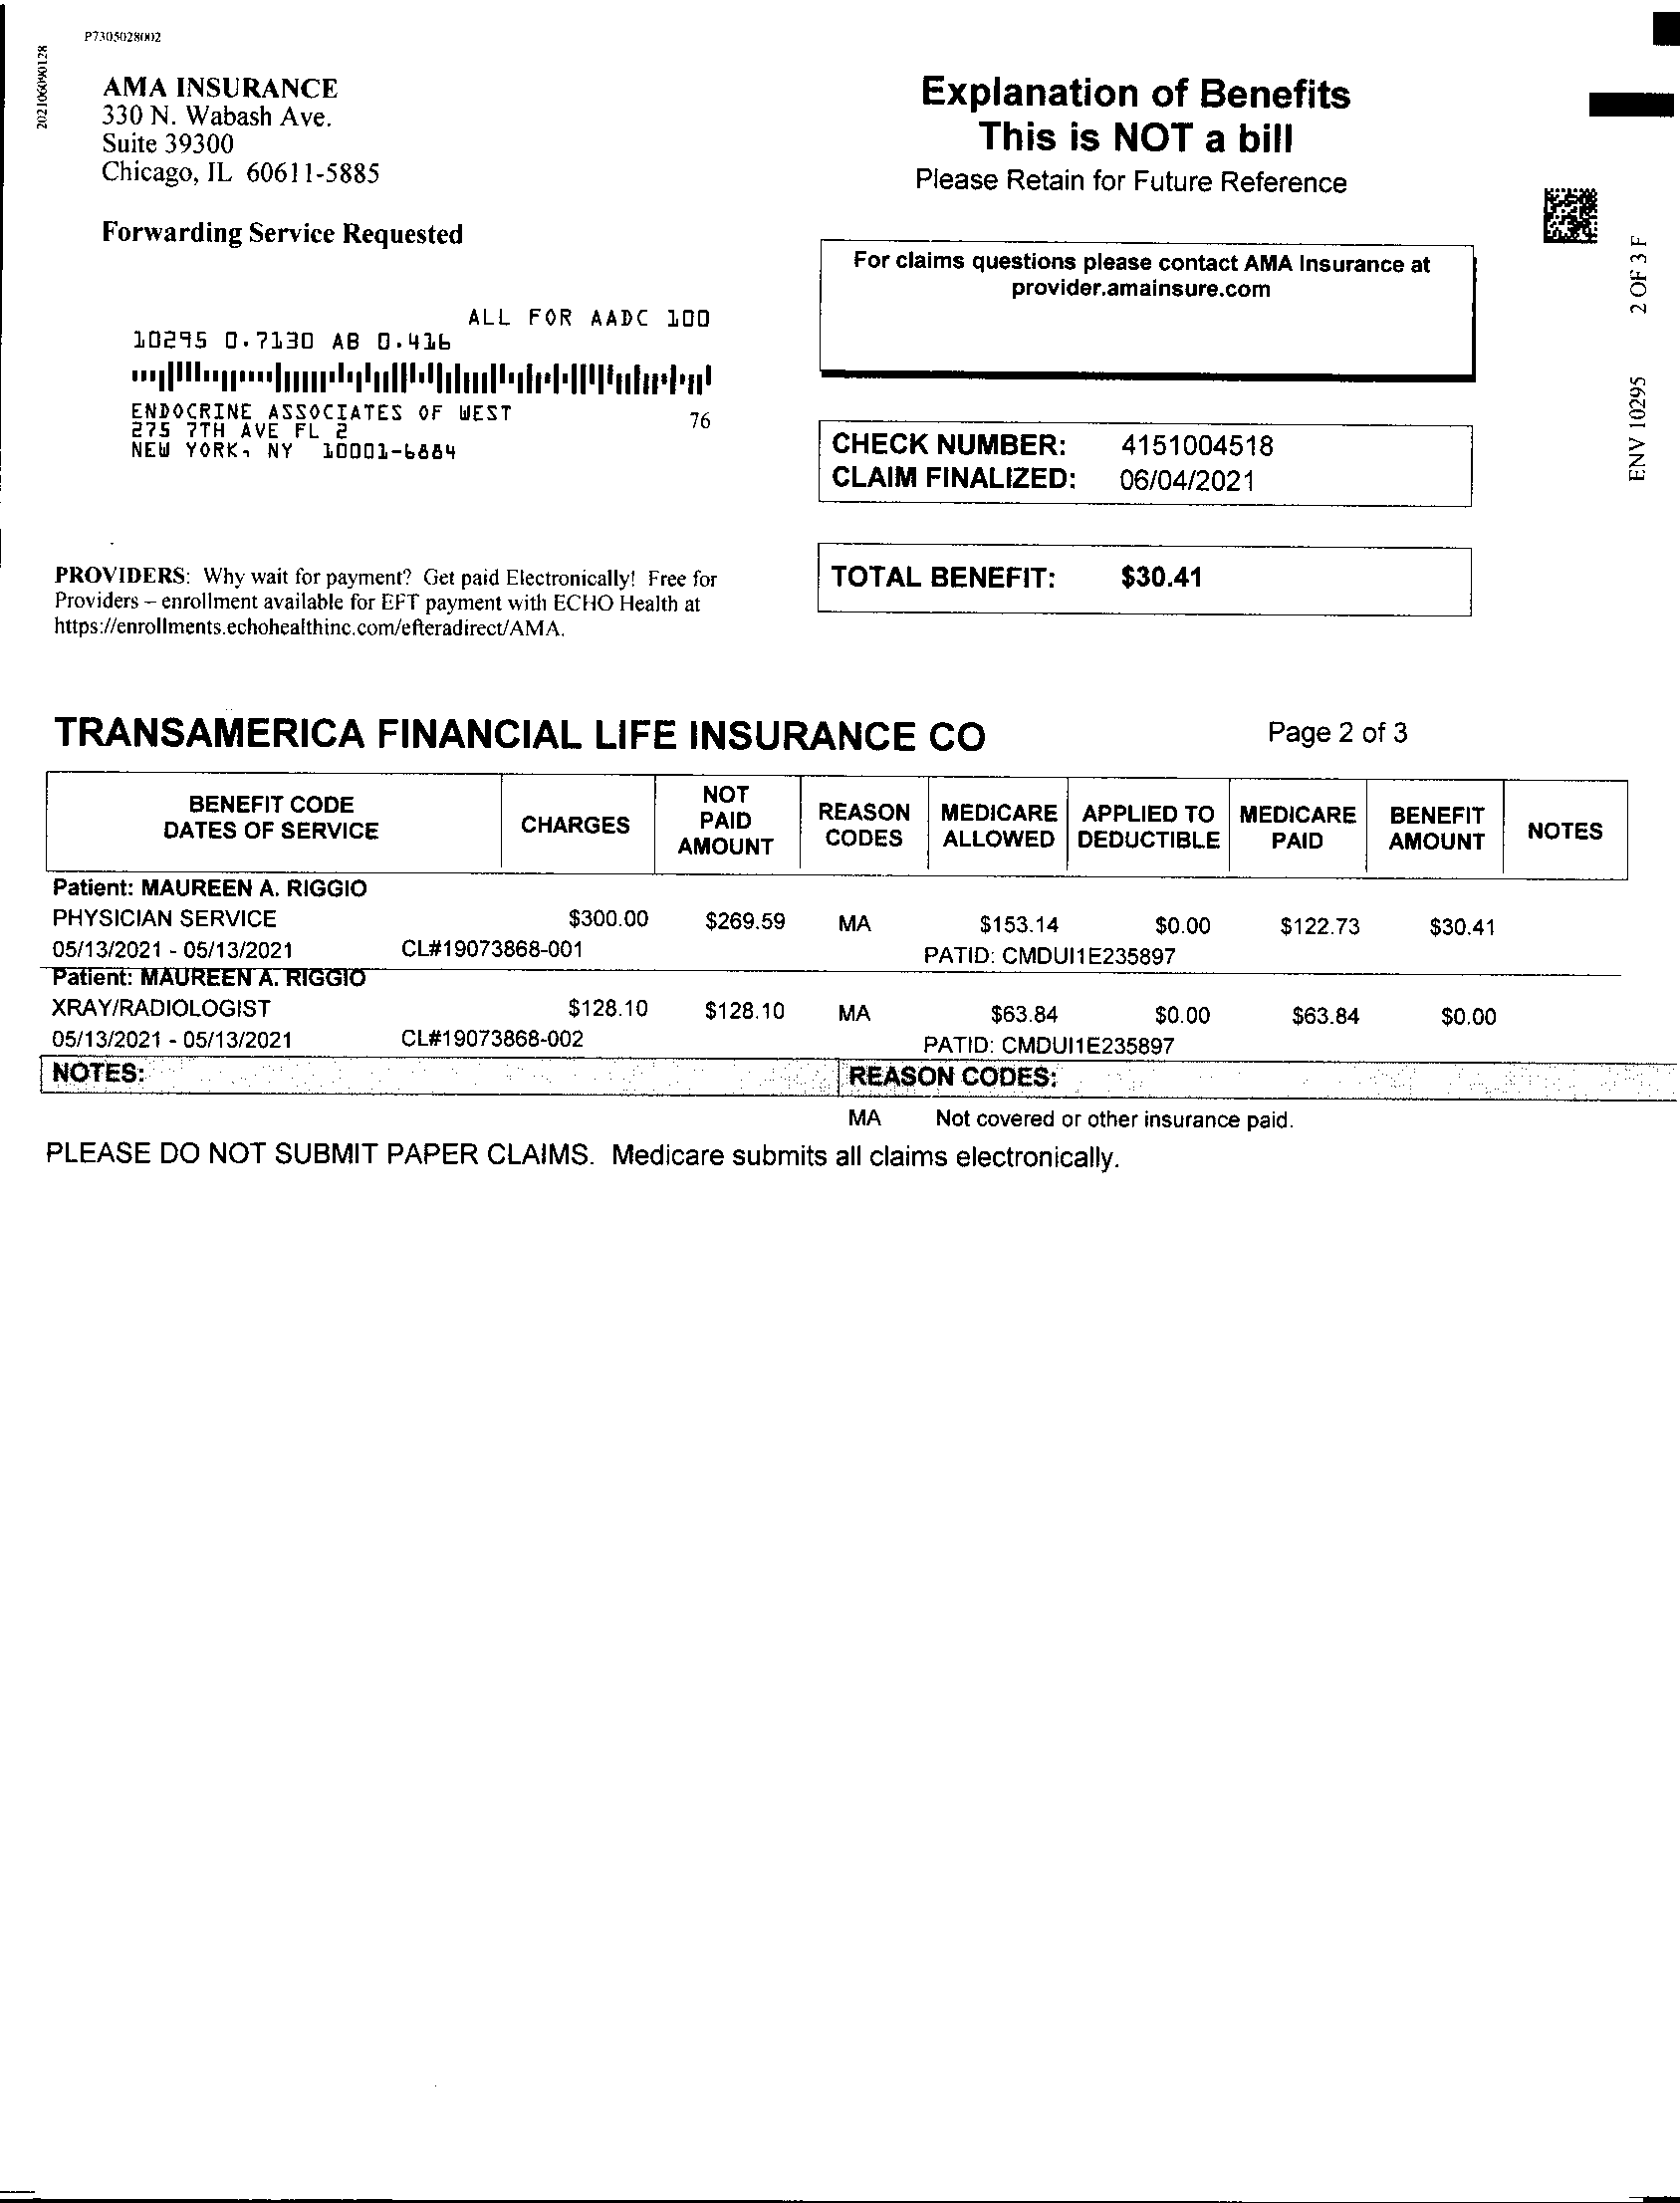data: (808, 408, 1488, 523), (810, 526, 1489, 630)
table: (37, 757, 1652, 1068)
